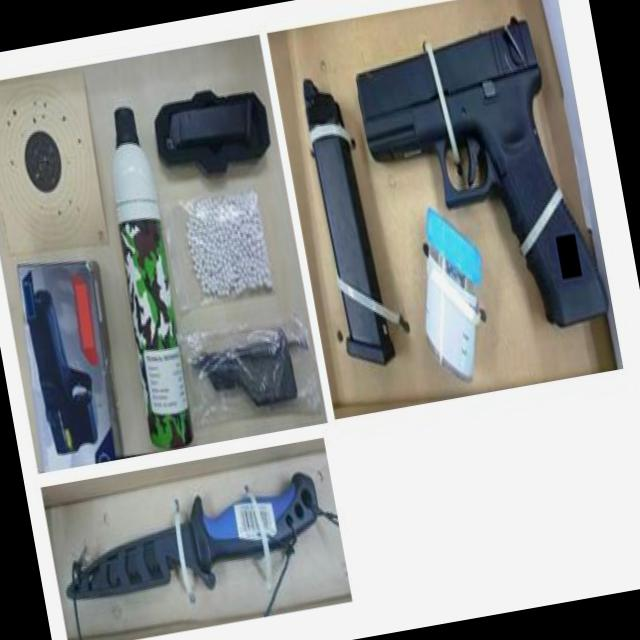handgun: (346, 12, 609, 353)
